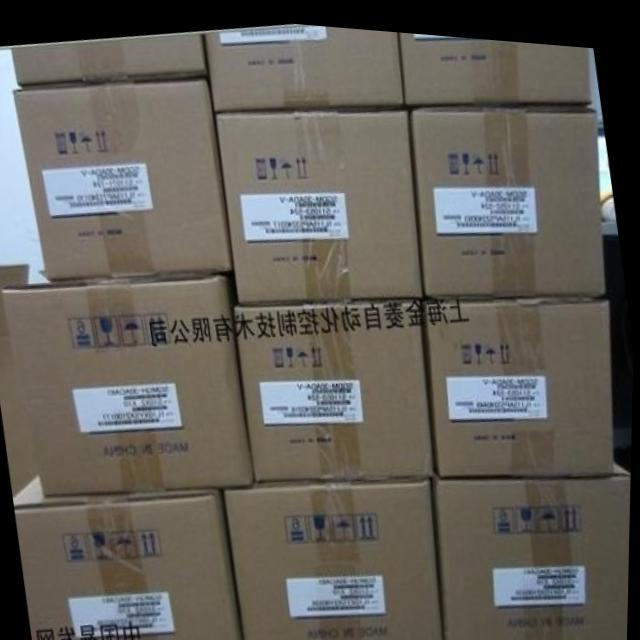box: (0, 263, 256, 499), (15, 75, 233, 278), (217, 106, 424, 300), (411, 97, 607, 292), (434, 451, 633, 640), (237, 289, 436, 474), (227, 475, 448, 640), (423, 287, 617, 469), (17, 486, 246, 640), (205, 20, 404, 109), (398, 26, 592, 98), (11, 29, 209, 84)
